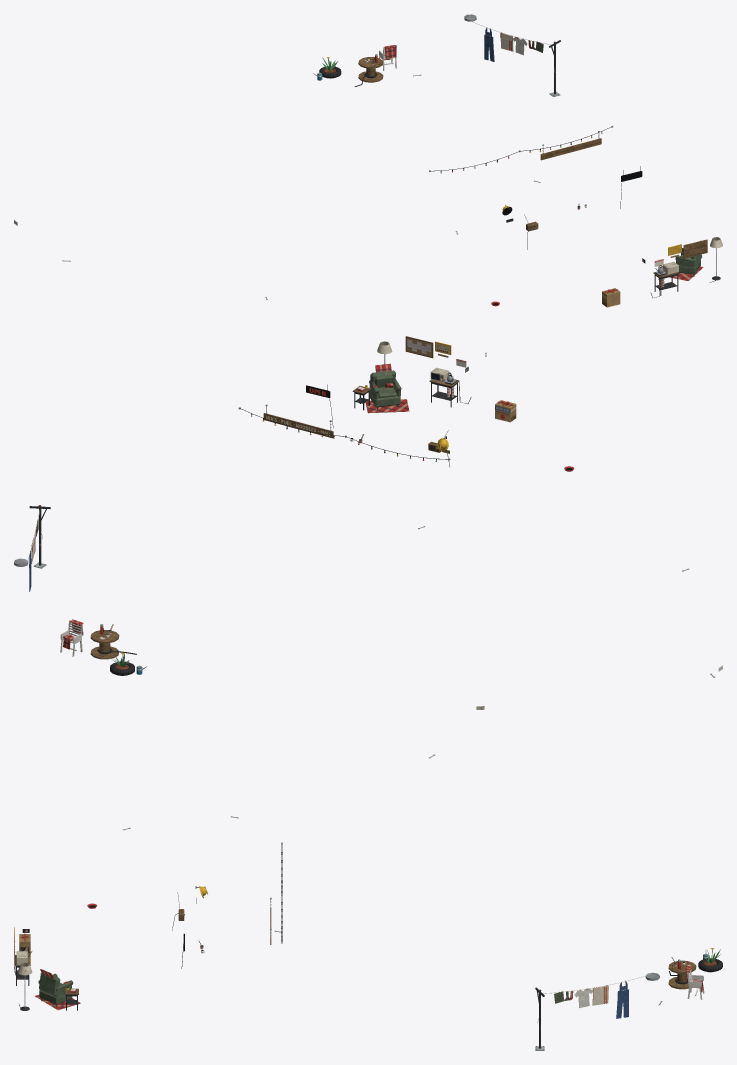
File: IraThings.fbx
3 views of the same model, one above another, from view 1: azimuth 30°, elevation 25°; view 2: azimuth 150°, elevation 25°; view 3: azimuth 270°, elevation 25° (orthographic). The views are drawn at different scales.
Parts seen in each view (by area): view 1: IraThings, Laundry; view 2: IraThings, Hanging sign; view 3: IraThings, Laundry.
Part boxes in pixels (x1=…): IraThings: x1=62, y1=14, x2=722, y2=307; Laundry: x1=484, y1=27, x2=543, y2=61; IraThings: x1=14, y1=336, x2=715, y2=677; Hanging sign: x1=263, y1=406, x2=333, y2=438; IraThings: x1=14, y1=754, x2=722, y2=1050; Laundry: x1=554, y1=980, x2=628, y2=1018.
Size of the model in its own units: 23.6 by 3.87 by 22.65.
